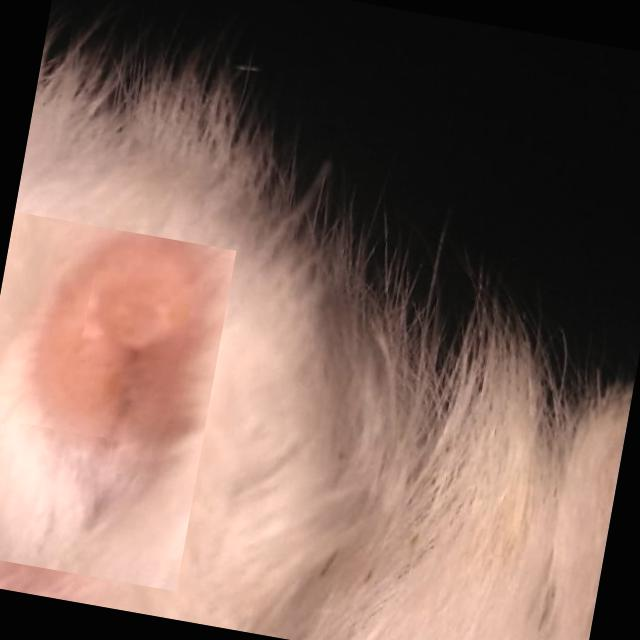mae: (0, 212, 236, 586)
mal: (3, 422, 114, 528)
